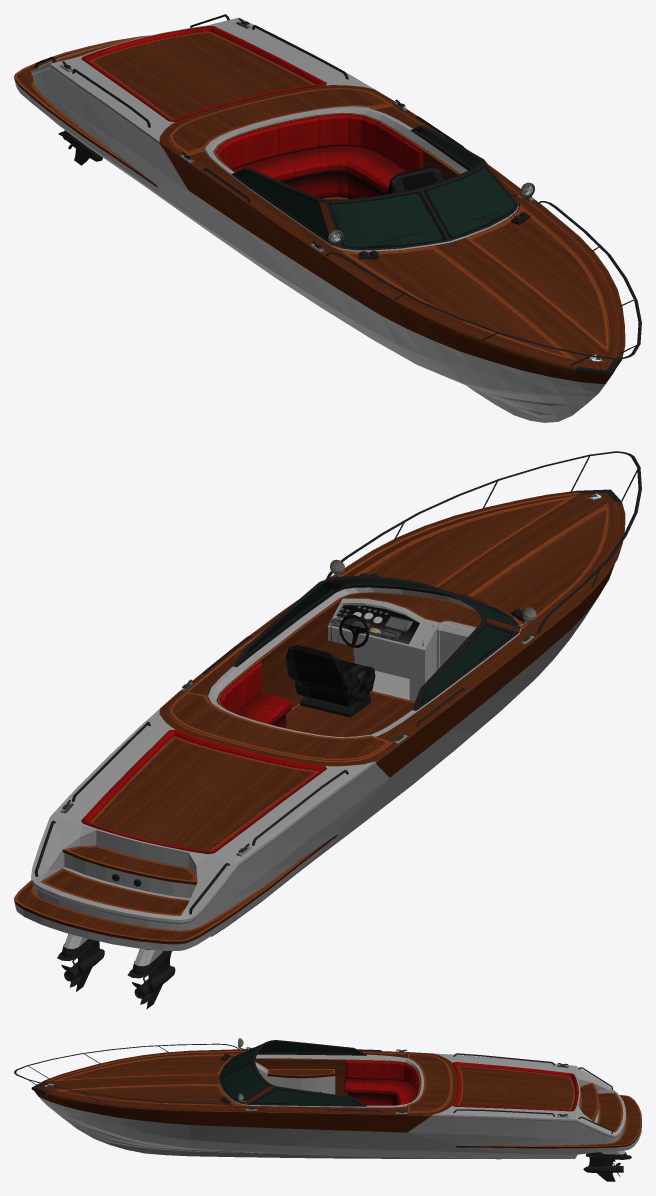
Rendered from Boat N200618.obj.
3 renders of one model, top to bottom at view 1: azimuth 30°, elevation 25°; view 2: azimuth 150°, elevation 25°; view 3: azimuth 270°, elevation 25°, orthographic. The views are drawn at different scales.
Visible parts, largest first — view 1: rdmobj01, rdmobj00, rdmobj03, rdmobj02, rdmobj04; view 2: rdmobj01, rdmobj00, rdmobj02, rdmobj04, rdmobj03; view 3: rdmobj01, rdmobj00, rdmobj02, rdmobj03.
Part boxes in pixels (x1,y1,x2,y2): rdmobj01: [14, 26, 625, 384]; rdmobj00: [14, 17, 605, 422]; rdmobj03: [236, 128, 516, 248]; rdmobj02: [34, 14, 641, 376]; rdmobj04: [387, 166, 446, 193]; rdmobj01: [14, 490, 625, 944]; rdmobj00: [14, 587, 597, 966]; rdmobj02: [34, 451, 641, 1009]; rdmobj04: [286, 615, 375, 717]; rdmobj03: [246, 578, 517, 704]; rdmobj01: [34, 1049, 641, 1148]; rdmobj00: [39, 1053, 641, 1159]; rdmobj02: [14, 1038, 631, 1181]; rdmobj03: [220, 1042, 361, 1105].
Size of the model in its own units: 63.9 by 52.65 by 270.
